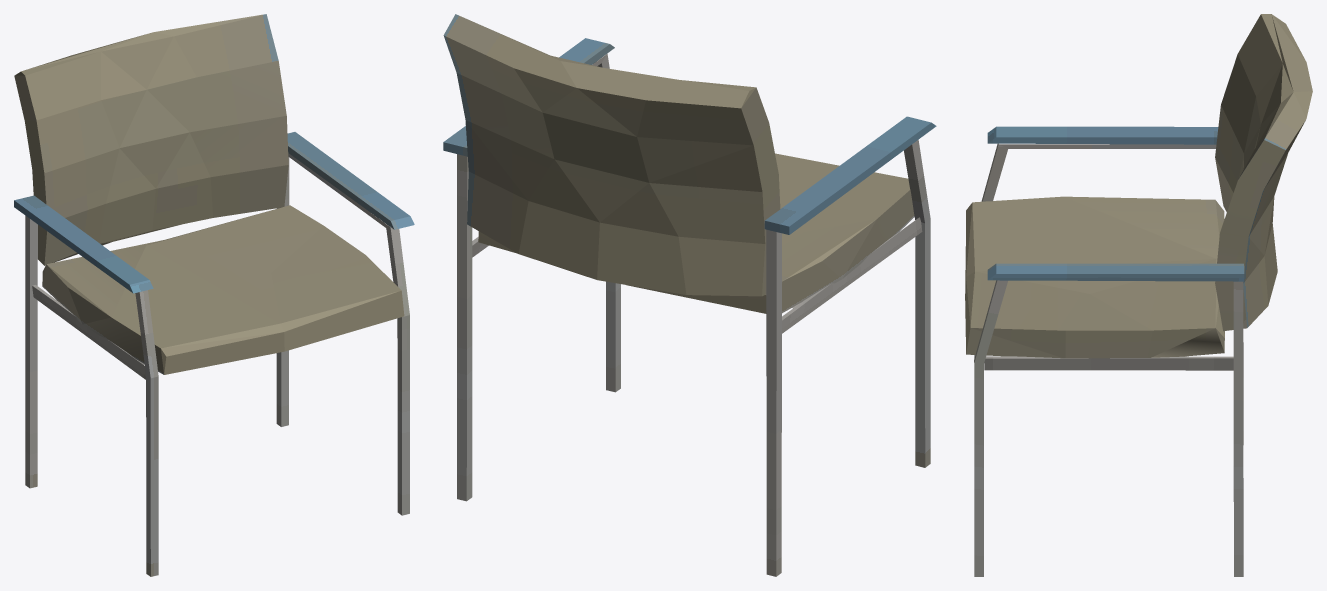
Rendered from item_backrooms_chair.glb.
3 renders of one model, left to right at view 1: azimuth 30°, elevation 25°; view 2: azimuth 150°, elevation 25°; view 3: azimuth 270°, elevation 25°, orthographic. The views are drawn at different scales.
Visible parts, largest first — view 1: MeetingChair01; view 2: MeetingChair01; view 3: MeetingChair01.
Part boxes in pixels (x1,y1,x2,y2): MeetingChair01: (14, 14, 414, 576); MeetingChair01: (443, 14, 936, 576); MeetingChair01: (965, 14, 1312, 576).
Size of the model in its own units: 0.7054 by 0.9654 by 0.7031.
1 material, 1 textured.
